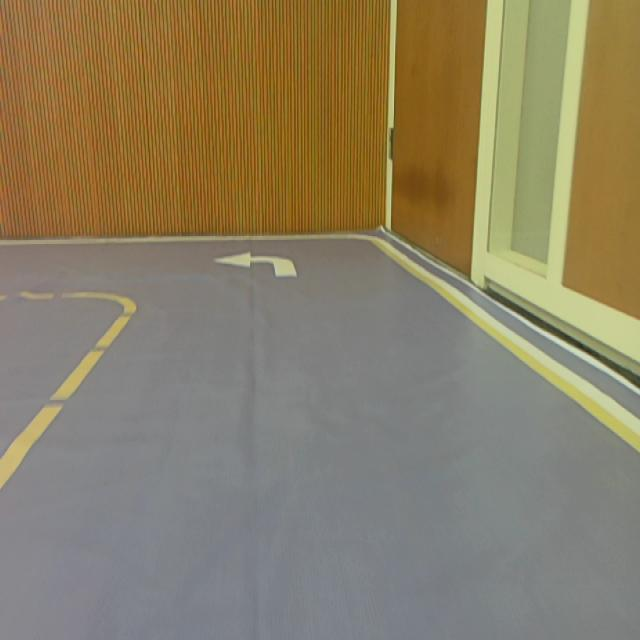left_lane: (0, 307, 141, 495)
right_lane: (369, 238, 640, 456)
